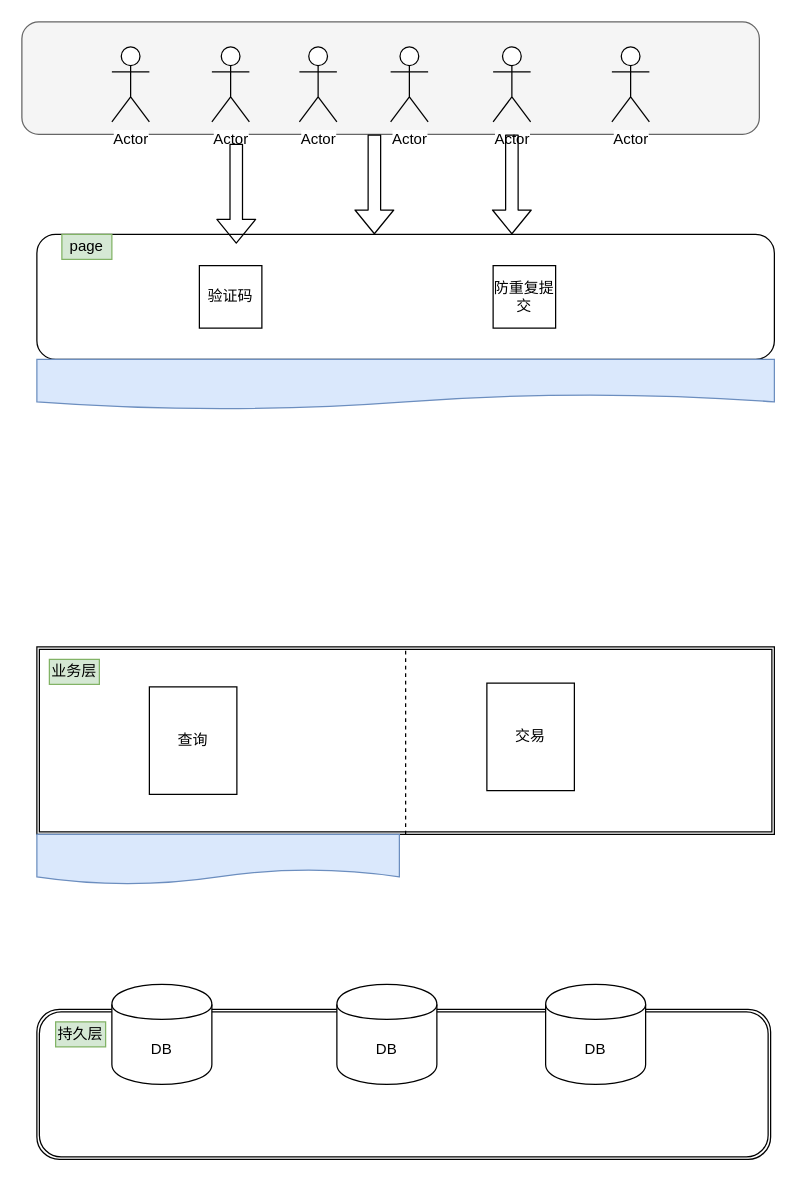
The diagram is 796 pixels wide and 1181 high, and some of its shapes have lost their labels. The box of each missing label's shape, as (x1, y1, x2, y2) in pixels:
前端数据缓存: (36, 358, 774, 409)
缓存: (36, 833, 399, 884)
